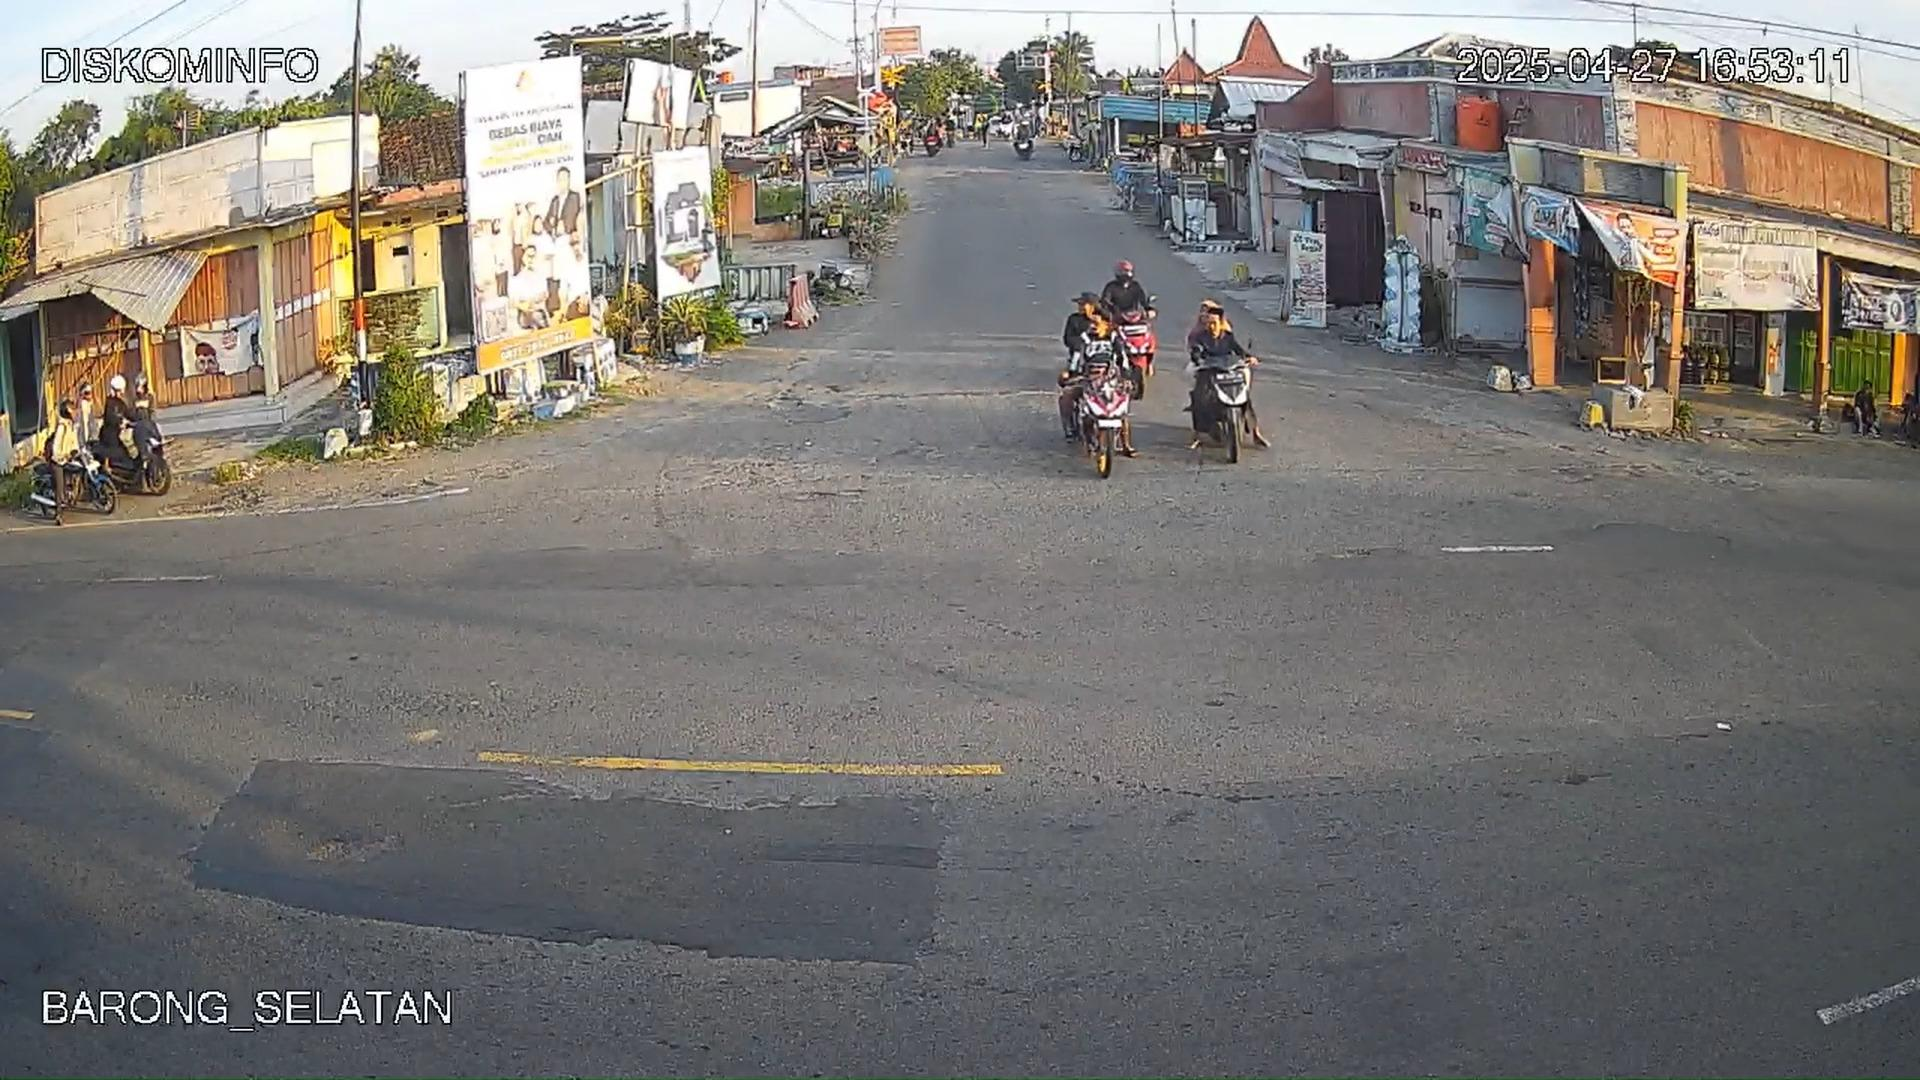Motor: (1058, 343, 1134, 476), (1187, 353, 1266, 465), (26, 440, 121, 522), (88, 418, 174, 502)
